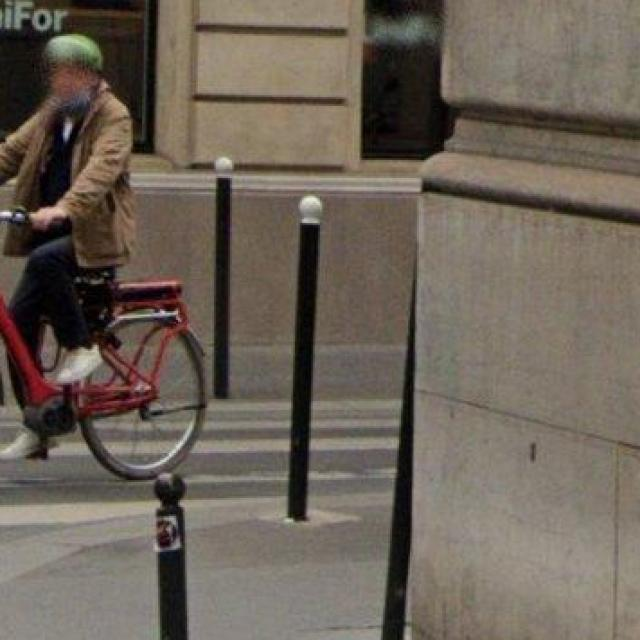bicycle: (1, 285, 208, 481), (69, 268, 208, 479)
